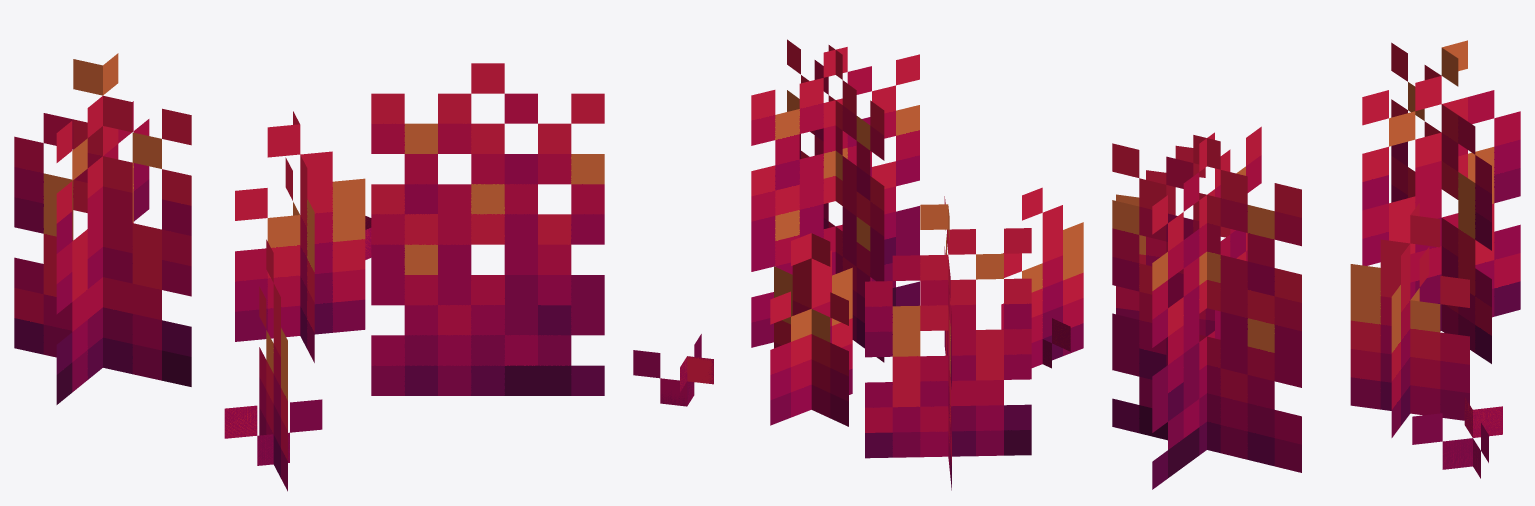
The model's file is crop_crimsoncrest_stage2.obj.
3 renders of one model, left to right at view 1: azimuth 30°, elevation 25°; view 2: azimuth 150°, elevation 25°; view 3: azimuth 270°, elevation 25°, orthographic. The views are drawn at different scales.
Visible parts, largest first — view 1: cube_1, cube_3, cube_5, cube_4, cube_10, cube_6, cube_9; view 2: cube_4, cube_2, cube_1, cube_10, cube_6, cube_5, cube_7, cube_3, cube_9, cube_8; view 3: cube_2, cube_3, cube_1, cube_6, cube_4, cube_5, cube_10, cube_8, cube_7.
Part boxes in pixels (left/top/right/bottom): cube_1: left=371, top=63, right=604, bottom=395; cube_3: left=14, top=59, right=191, bottom=386; cube_5: left=235, top=124, right=365, bottom=341; cube_4: left=56, top=53, right=149, bottom=404; cube_10: left=259, top=239, right=287, bottom=491; cube_6: left=285, top=111, right=314, bottom=362; cube_9: left=224, top=399, right=322, bottom=465; cube_4: left=865, top=204, right=1031, bottom=458; cube_2: left=751, top=47, right=919, bottom=347; cube_1: left=787, top=39, right=884, bottom=362; cube_10: left=1001, top=187, right=1083, bottom=367; cube_6: left=770, top=233, right=852, bottom=425; cube_5: left=774, top=233, right=848, bottom=426; cube_7: left=633, top=350, right=713, bottom=406; cube_3: left=944, top=196, right=951, bottom=490; cube_9: left=1042, top=318, right=1070, bottom=368; cube_8: left=680, top=334, right=701, bottom=405; cube_2: left=1112, top=135, right=1301, bottom=472; cube_3: left=1362, top=40, right=1520, bottom=331; cube_1: left=1152, top=126, right=1261, bottom=489; cube_6: left=1350, top=215, right=1469, bottom=420; cube_4: left=1391, top=42, right=1491, bottom=363; cube_5: left=1391, top=203, right=1429, bottom=437; cube_10: left=1116, top=145, right=1230, bottom=336; cube_8: left=1412, top=406, right=1502, bottom=469; cube_7: left=1464, top=397, right=1488, bottom=478.
Size of the model in its own units: 0.9195 by 0.6875 by 0.8163.
